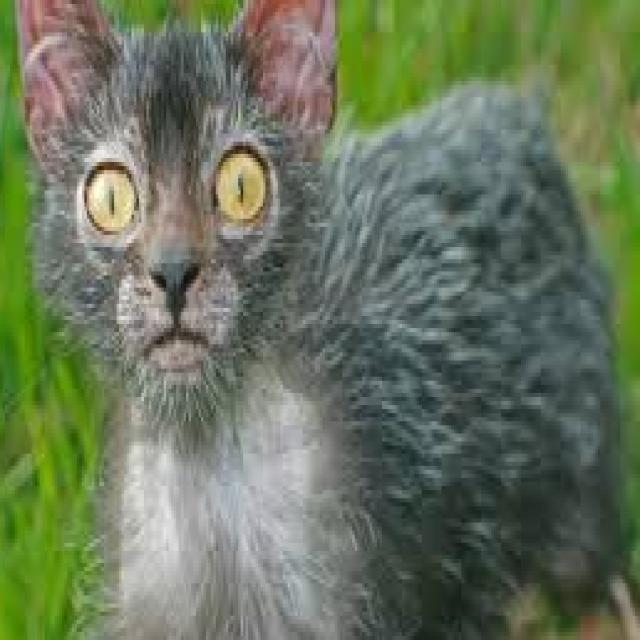Lykoi: (8, 0, 630, 640)
